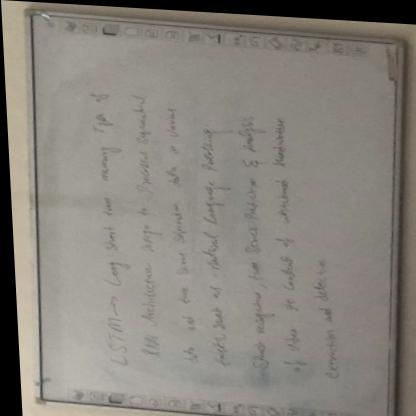Handwritten text: (80, 88, 130, 369), (187, 119, 239, 367), (119, 88, 166, 358), (229, 109, 274, 373), (261, 103, 304, 374), (152, 100, 192, 367), (297, 242, 341, 378)
Whiteboard: (3, 6, 410, 416)
